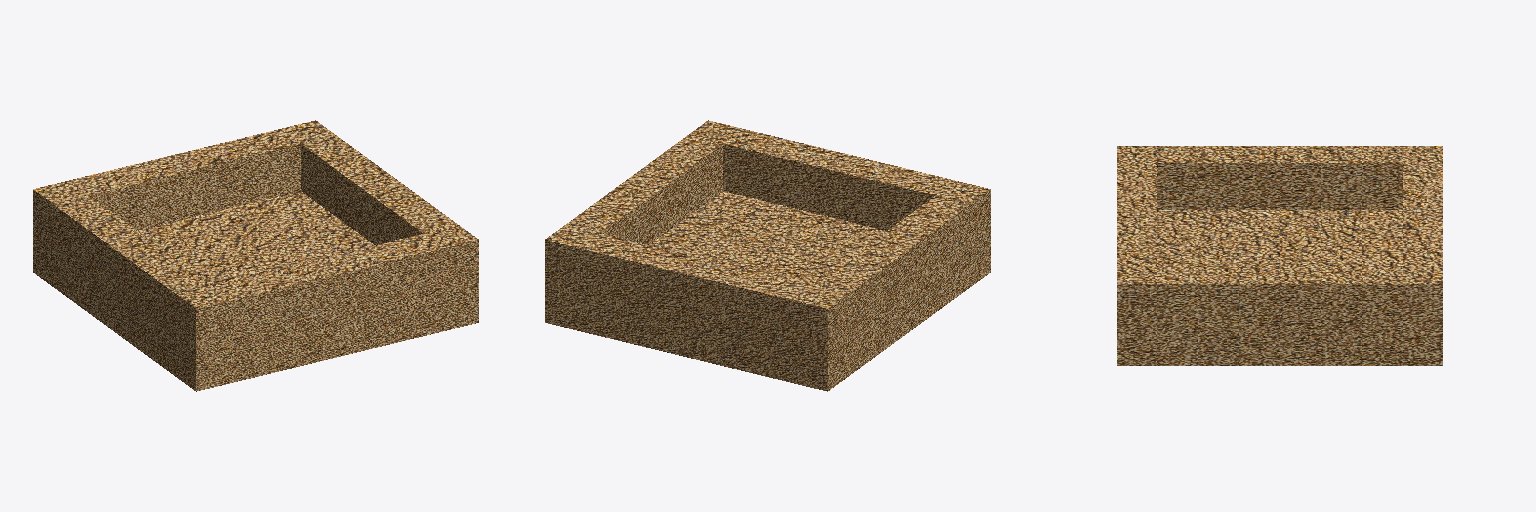
The picture shows the model from 3 angles: view 1: azimuth 30°, elevation 25°; view 2: azimuth 150°, elevation 25°; view 3: azimuth 270°, elevation 25°; orthographic projection.
Visible parts, largest first — view 1: Plane_Plane.001; view 2: Plane_Plane.001; view 3: Plane_Plane.001.
Boxes of the visible parts, box(x1,y1,x2,y2) form: Plane_Plane.001: box(33, 120, 478, 391); Plane_Plane.001: box(545, 120, 990, 391); Plane_Plane.001: box(1117, 146, 1442, 365).
Bounding box in the file's own units: 10 × 2.8 × 10.
Materials: 1 (1 with a texture image).